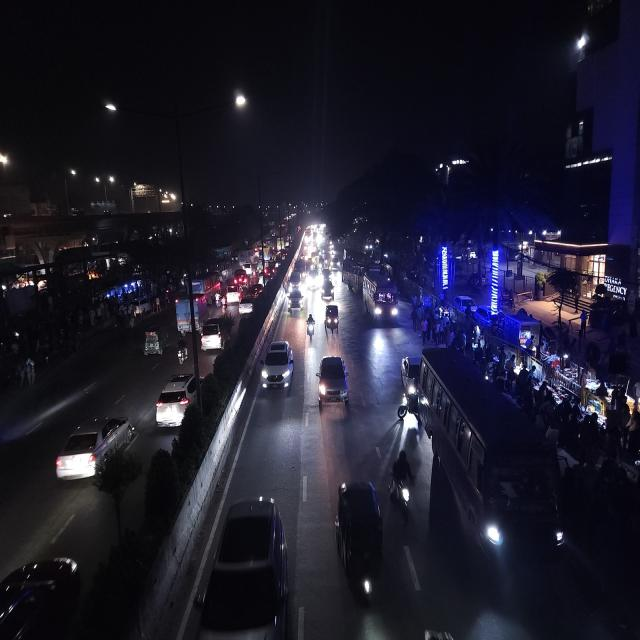bus: (423, 343, 563, 595), (572, 0, 624, 60), (359, 267, 400, 328), (341, 254, 365, 294), (190, 270, 220, 300)
car: (199, 492, 293, 640), (53, 410, 137, 488), (153, 370, 201, 430), (260, 338, 296, 398), (316, 352, 350, 414), (199, 315, 231, 354), (238, 288, 260, 318), (286, 288, 306, 315), (320, 278, 336, 303), (224, 286, 240, 307), (234, 268, 249, 286)
cng: (142, 322, 168, 358), (322, 301, 340, 335)
motorcycle: (389, 448, 415, 524), (396, 392, 419, 420), (174, 332, 190, 367), (304, 312, 316, 342), (216, 290, 225, 310)
pedestrian: (407, 304, 422, 334), (421, 316, 432, 344)
truck: (174, 292, 204, 332)
